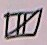kok: (1, 1, 45, 45)
